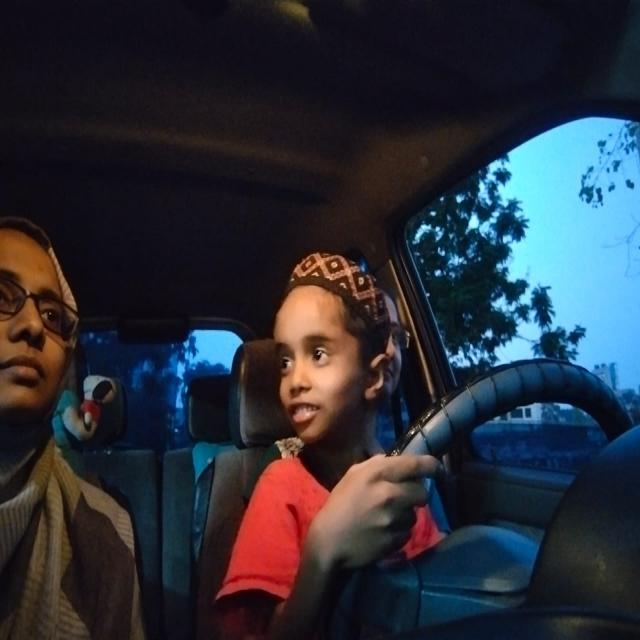child: (268, 245, 407, 451)
person: (0, 205, 97, 452)
